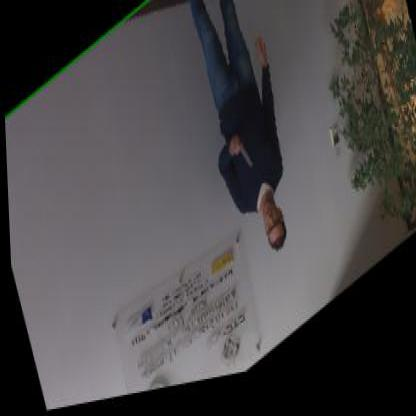knife: (229, 131, 252, 186)
